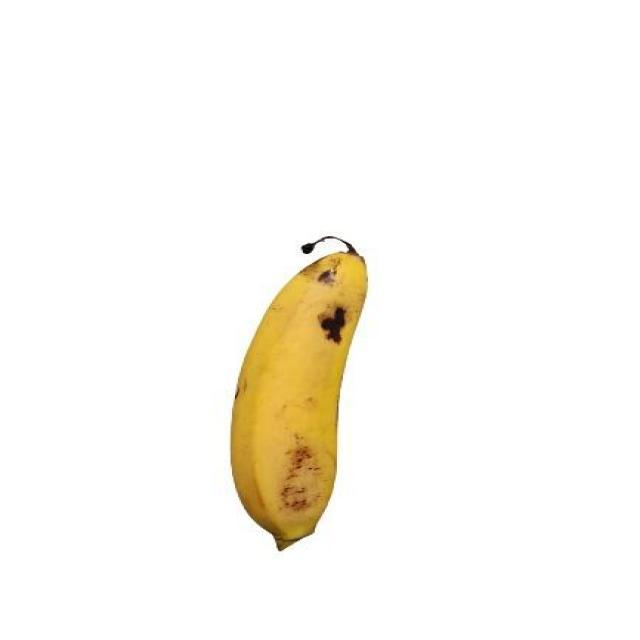banana: (222, 226, 380, 553)
